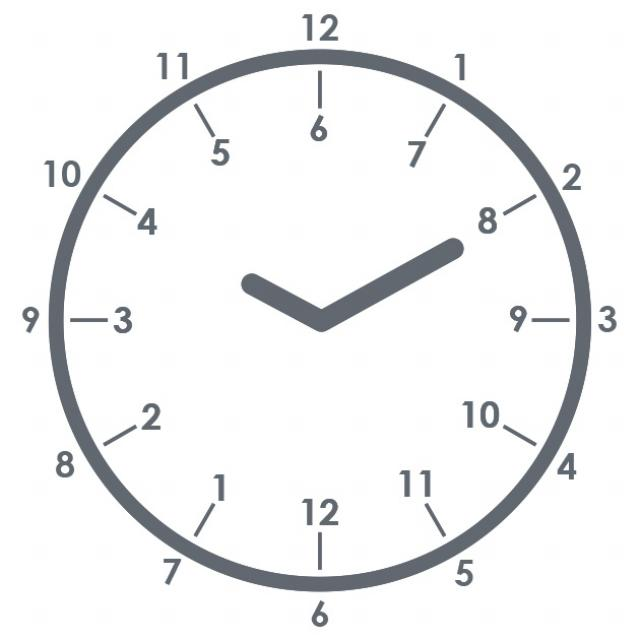clock: (54, 47, 546, 569)
